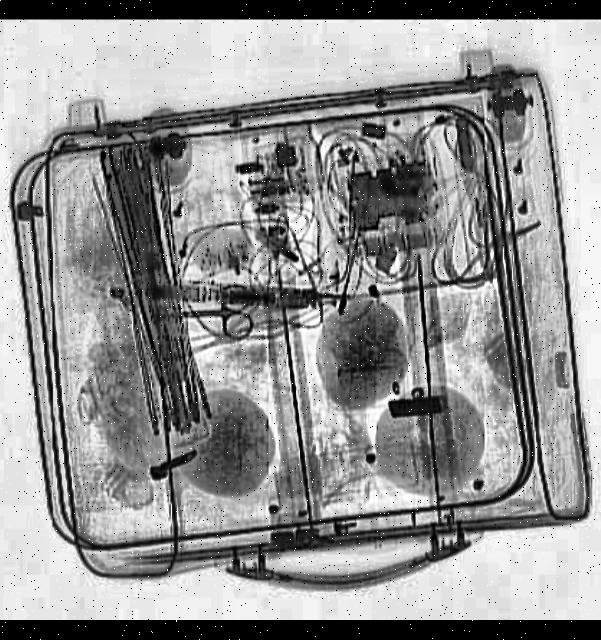Scissors: (158, 286, 249, 344)
